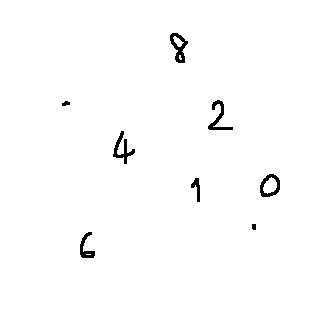.: (244, 217, 268, 235), (58, 90, 72, 114)
0: (252, 156, 296, 210)
1: (181, 168, 214, 210)
2: (204, 93, 236, 140)
4: (104, 123, 140, 183)
6: (77, 220, 105, 266)
8: (165, 30, 198, 72)
